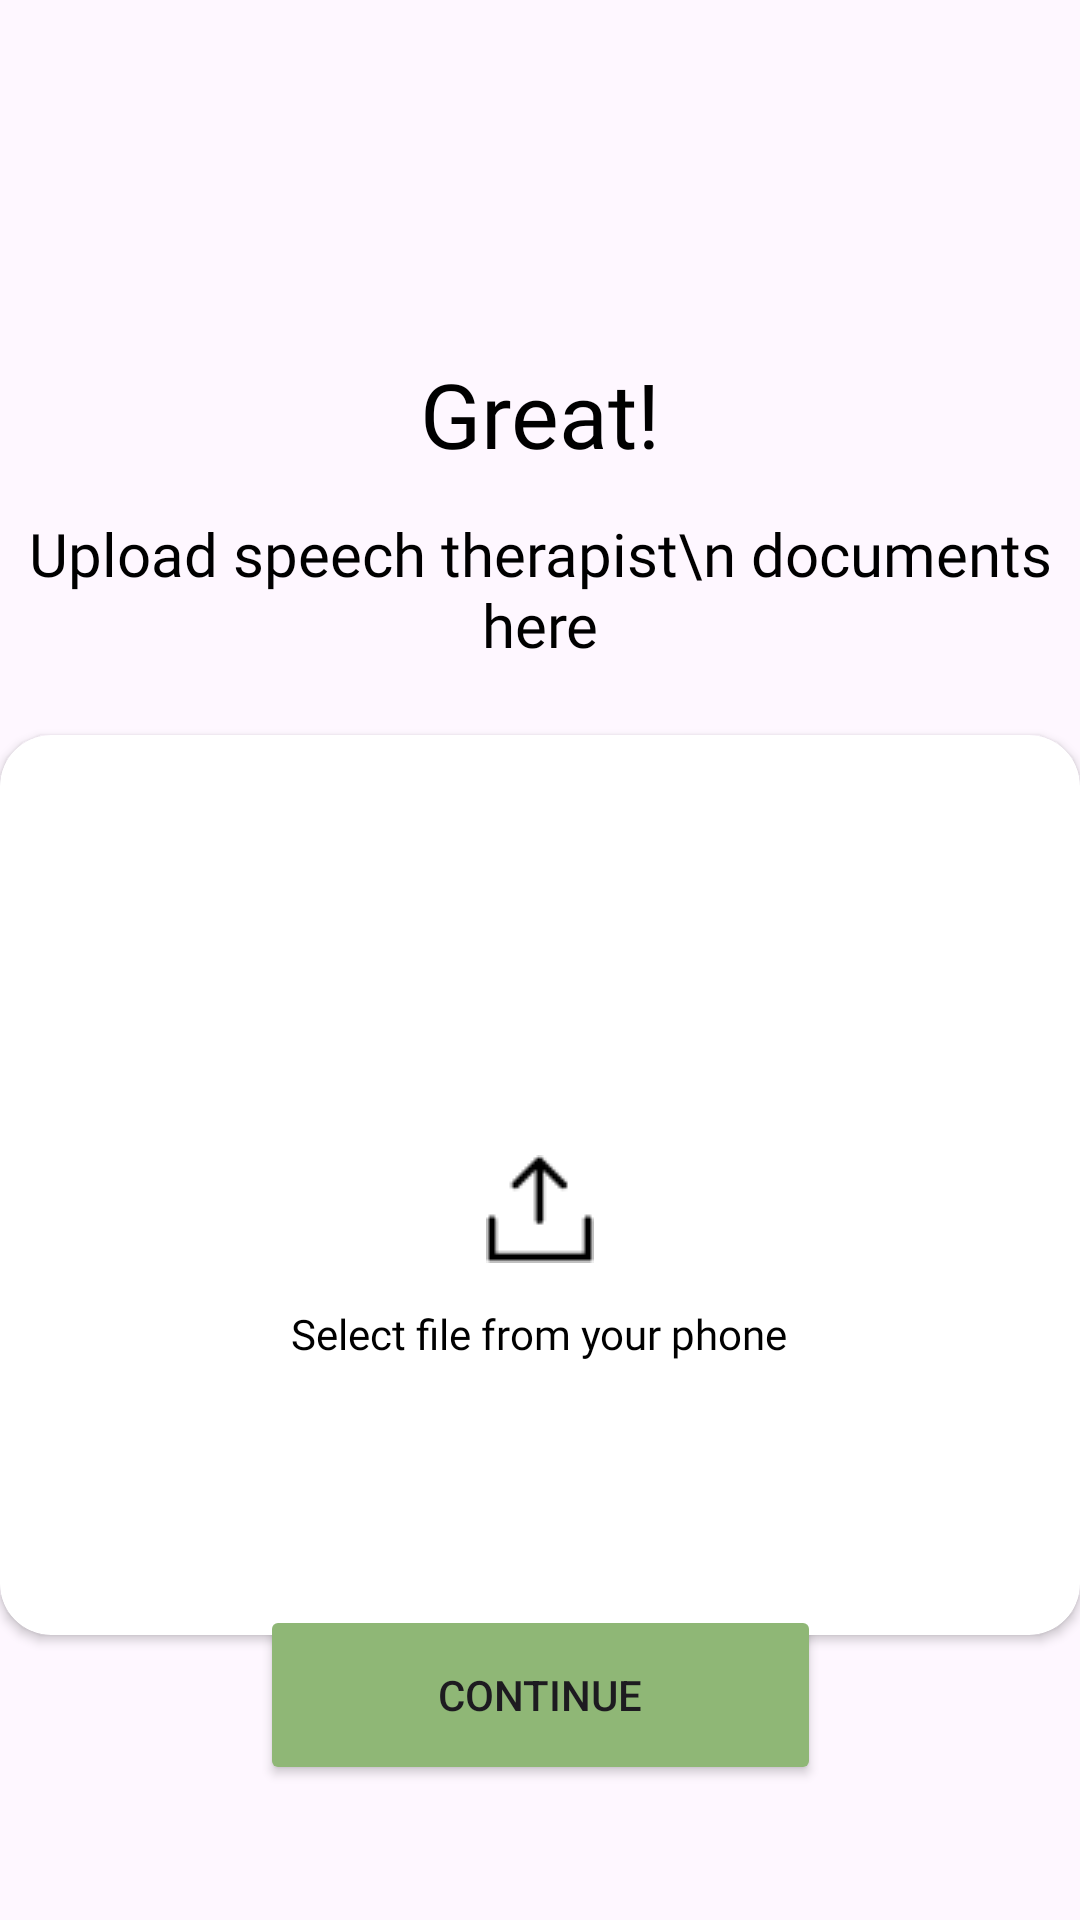

Icon bounding boxes for this 1080 x 1920 phone screenshot, format (x1, y1, x2, y2):
uploadimg: (486, 1155, 594, 1263)
